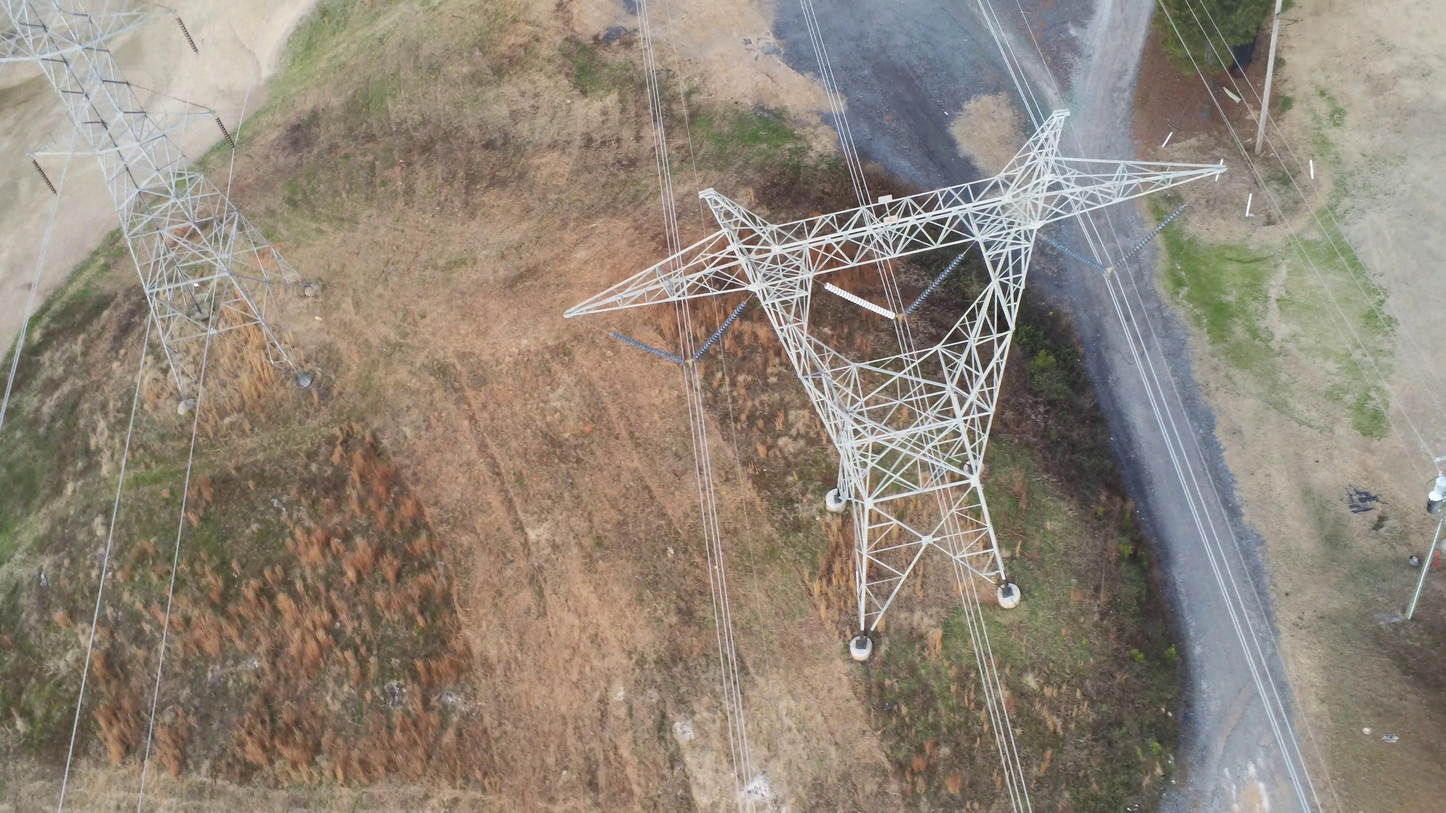power_tower: (562, 109, 1227, 638), (0, 0, 306, 400)
